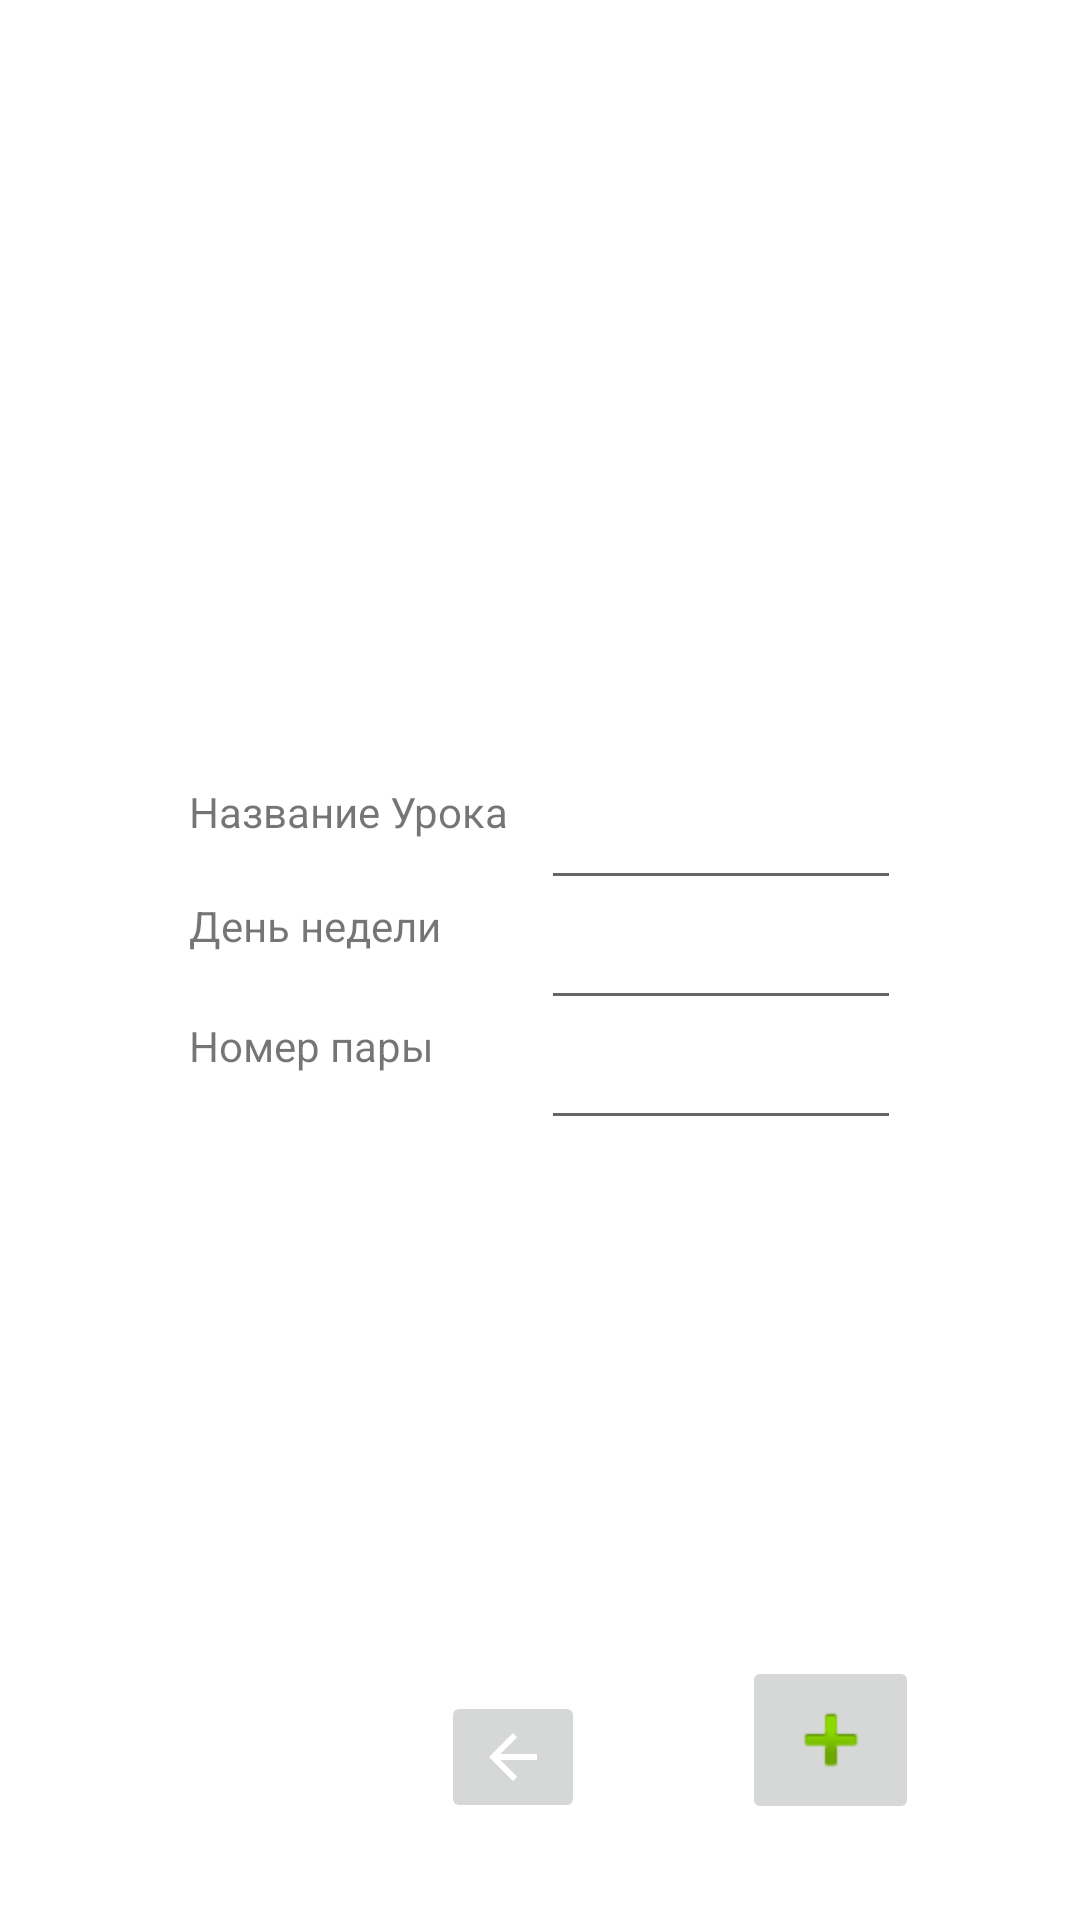

Point at icon controls on the screen. Image size 1080w x 1920h, points as [x,y].
add: [830,1740]
